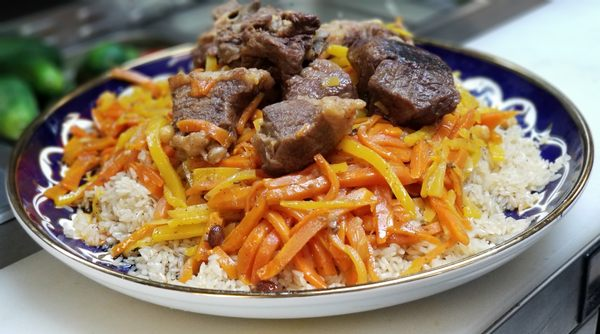sushi: (15, 2, 595, 329)
